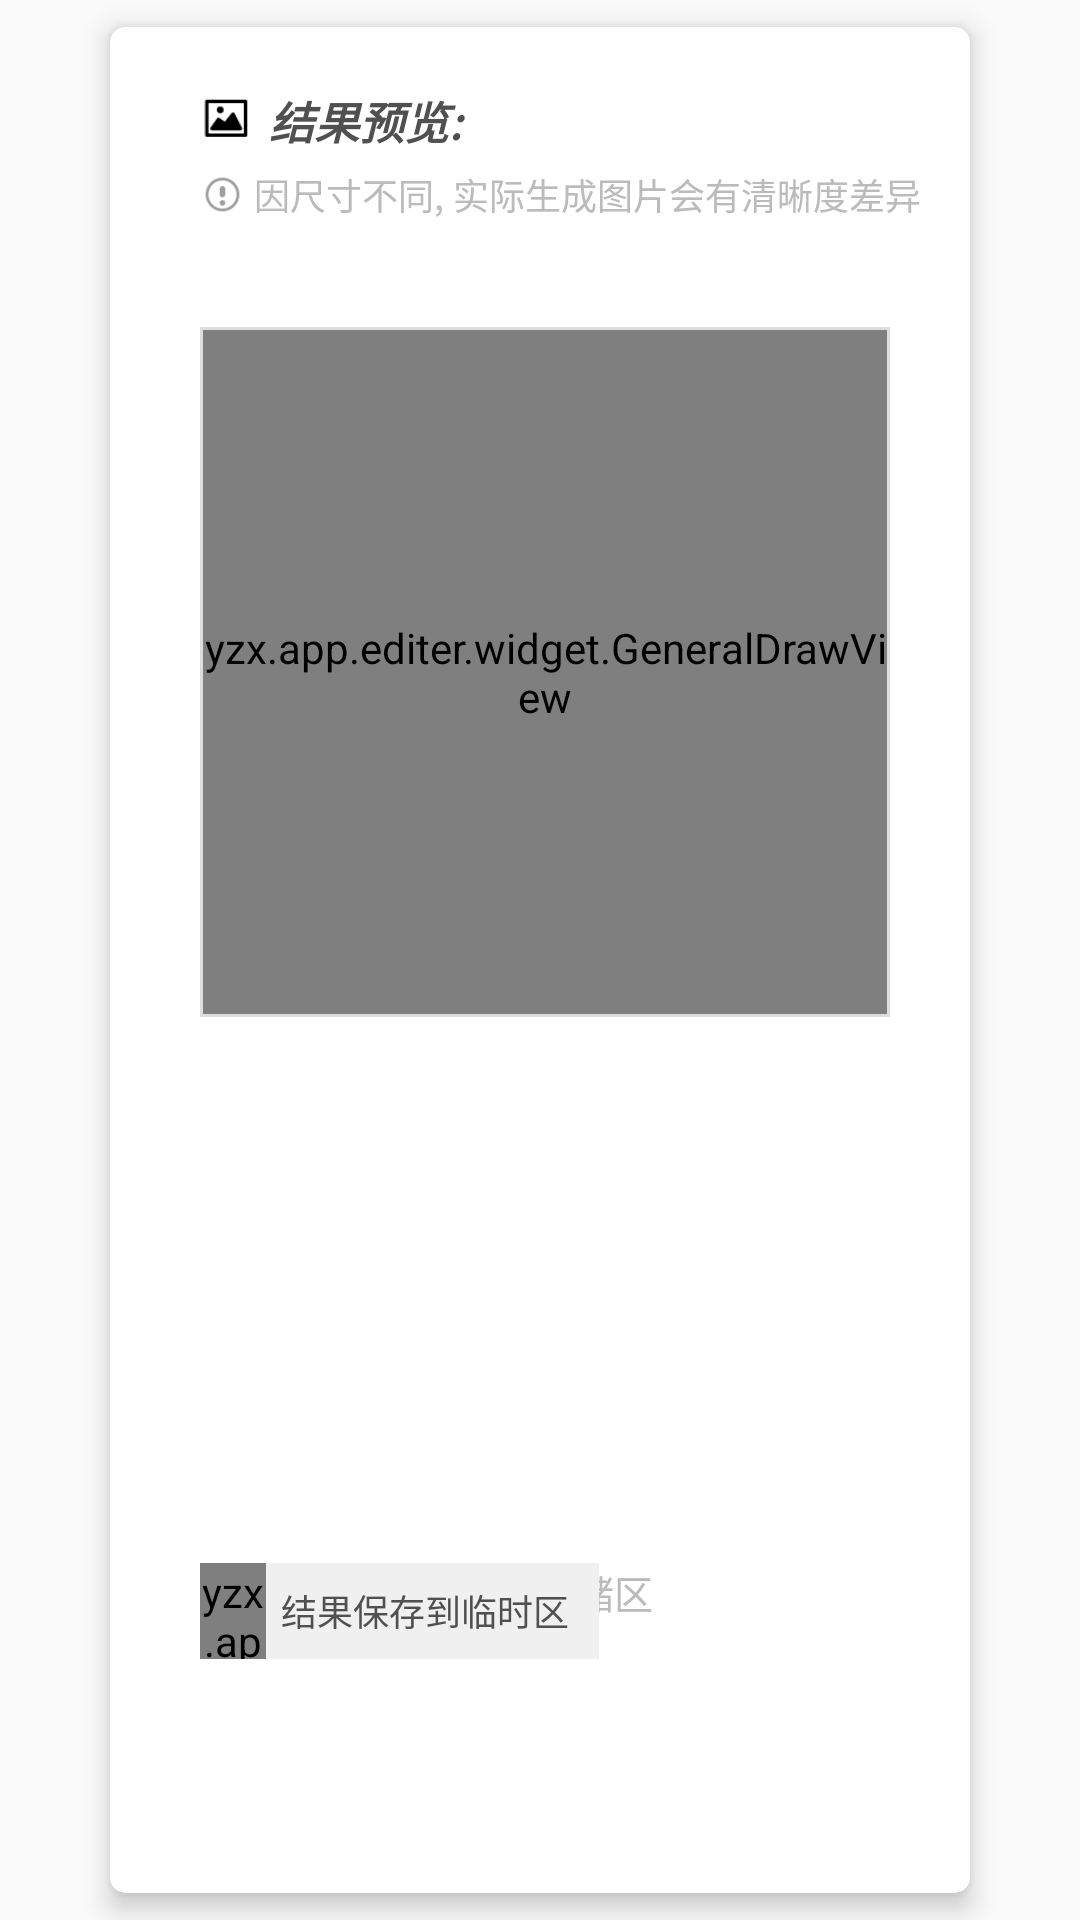

Named icons in this screenshot (1080*1920) and their centers, [x,y]:
circle notice: [222,194]
